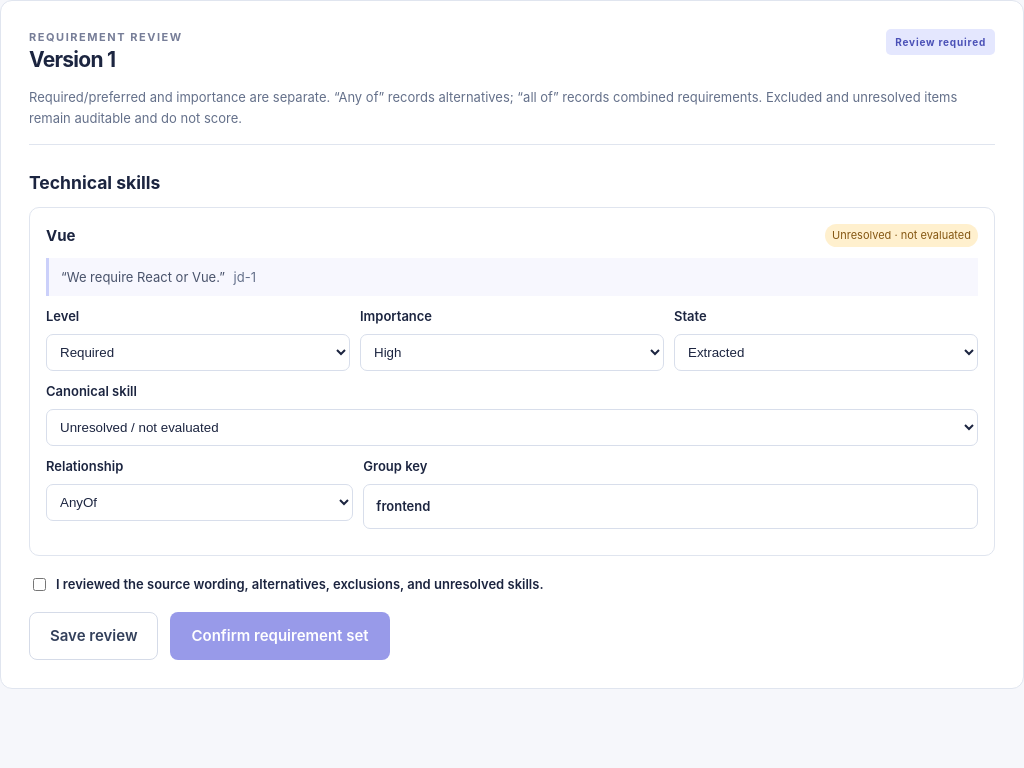
job intelligence › shows unresolved alternatives and requires review before confirmation
Check: the text "Unresolved · not evaluated" is shown, box [825,224,978,247]
Check: the button "Confirm requirement set" is disabled, box [170,612,390,660]
Select "React" in the dropdown labelled "Canonical skill". click: (512, 428)
box: [46,409,978,446]
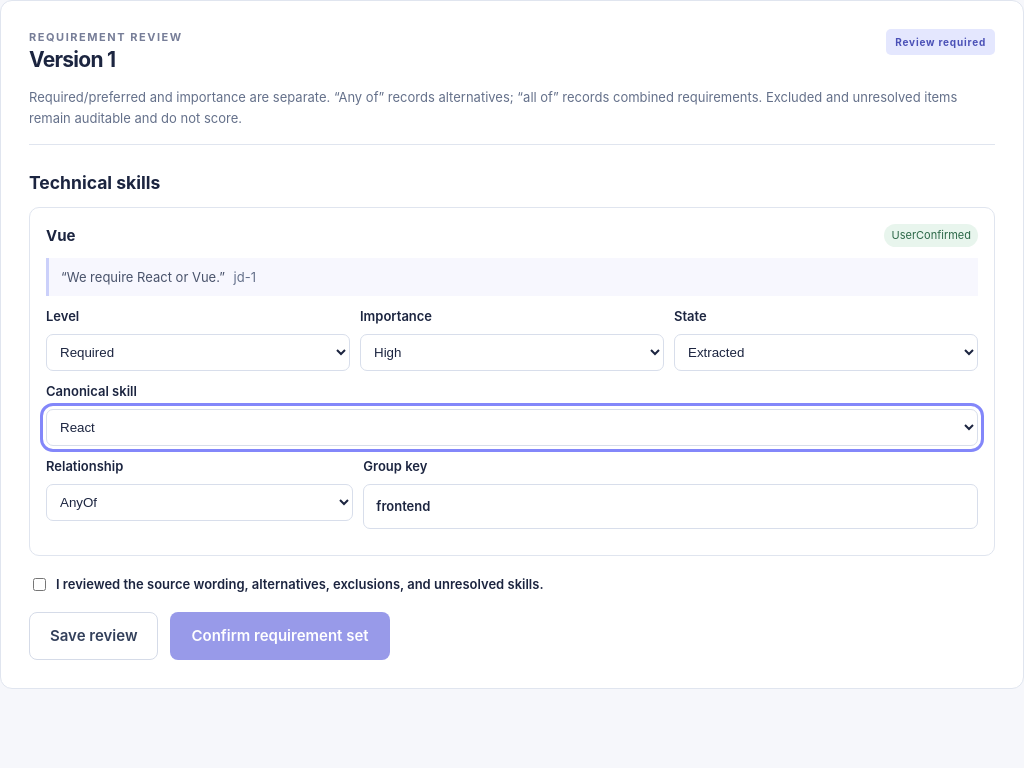
Click the checkbox. click: (40, 584)
box: [33,578,46,591]
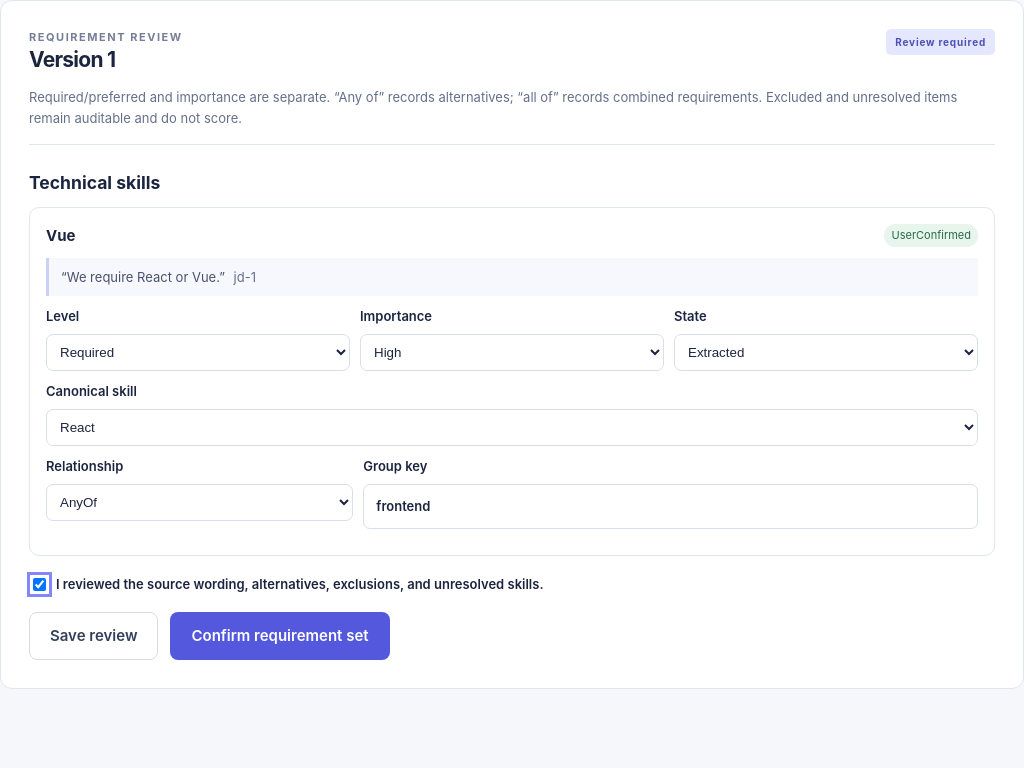
Check: the button "Confirm requirement set" is enabled, box [170,612,390,660]
